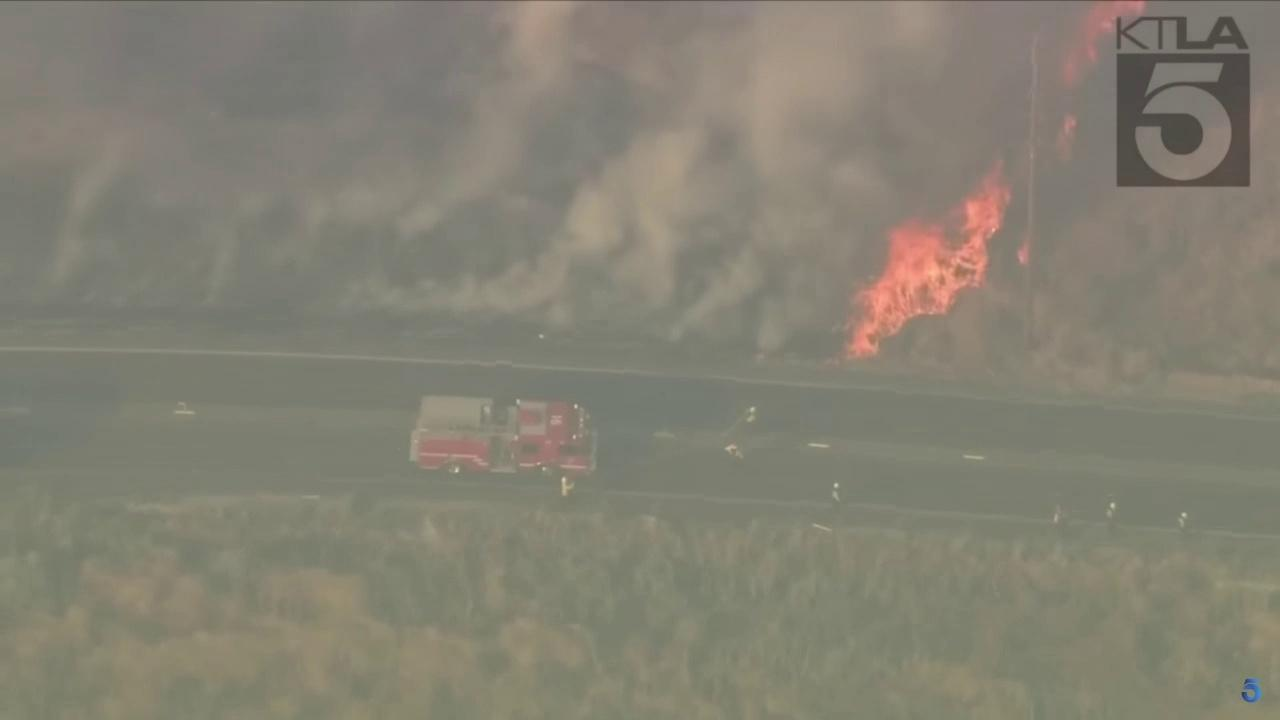fire: (826, 155, 1014, 370), (1058, 0, 1146, 91), (1053, 112, 1079, 164), (1015, 244, 1025, 267)
smoke: (0, 0, 1116, 357)
